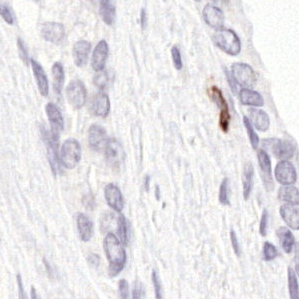Lymphocyte: (207, 85, 233, 135)
